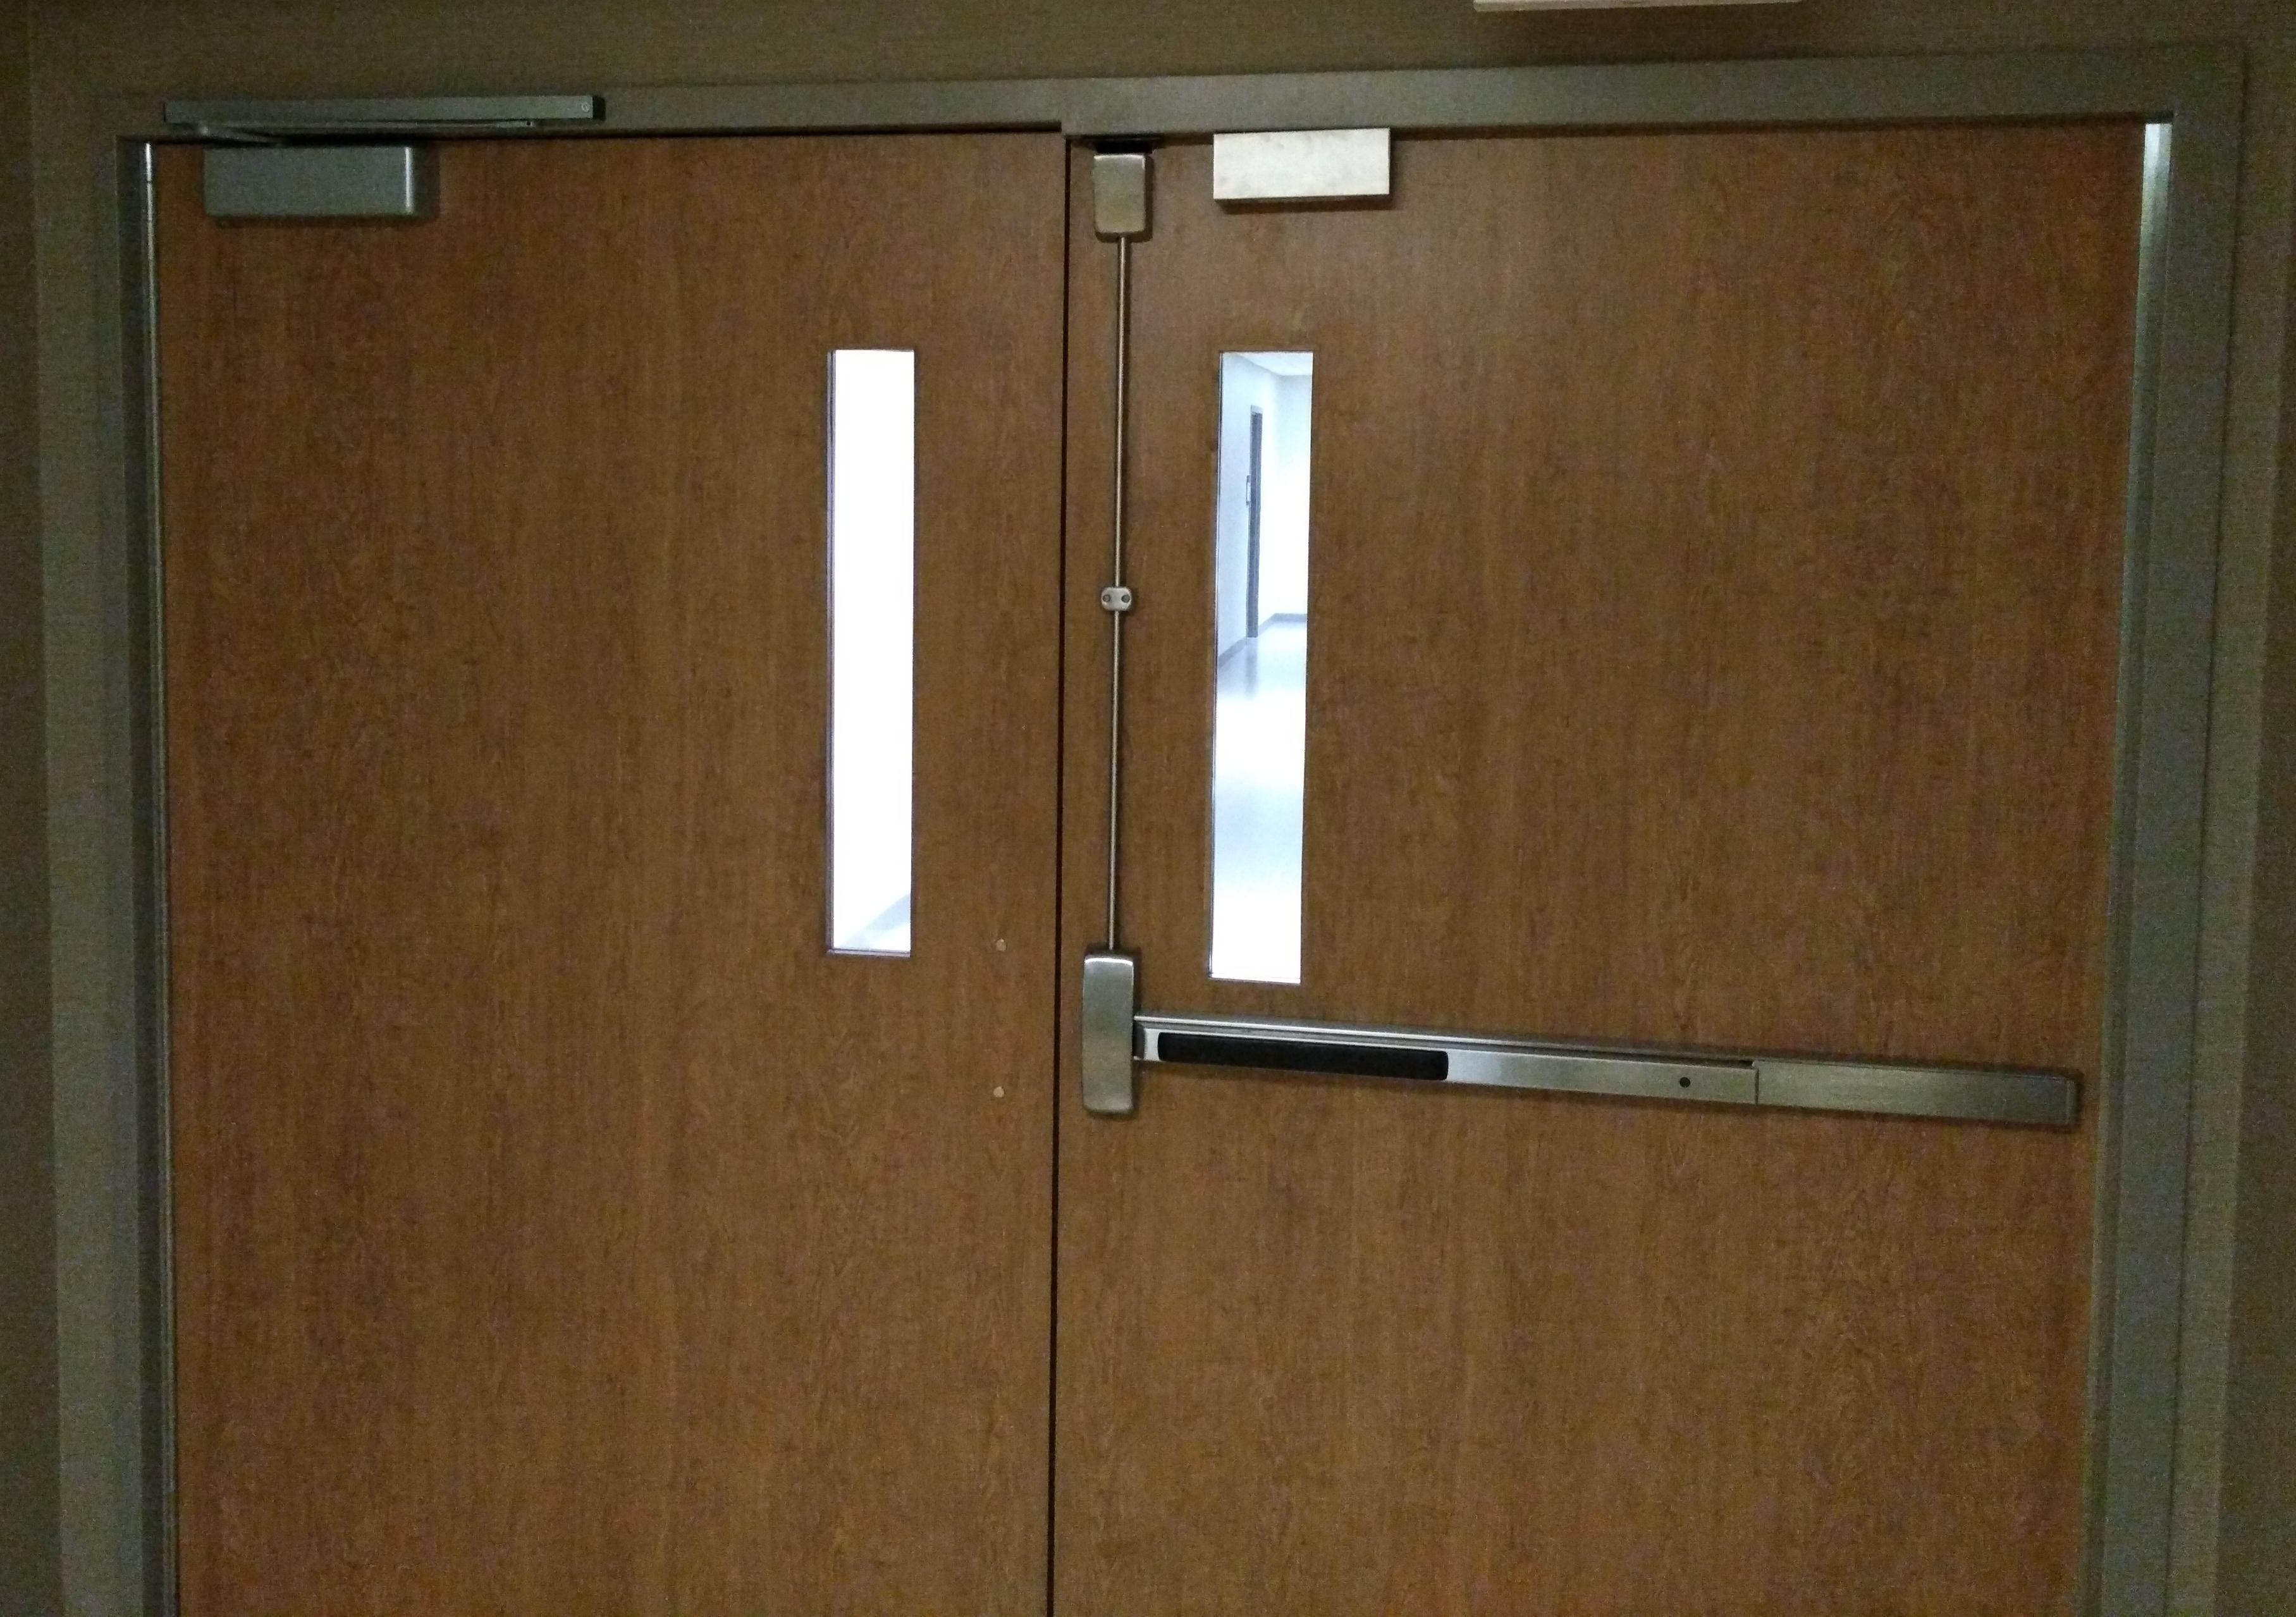door: (121, 105, 2124, 1608)
